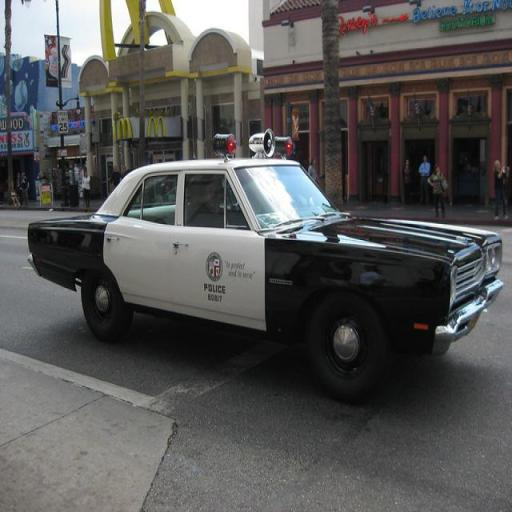Ambulance: (26, 123, 502, 410)
